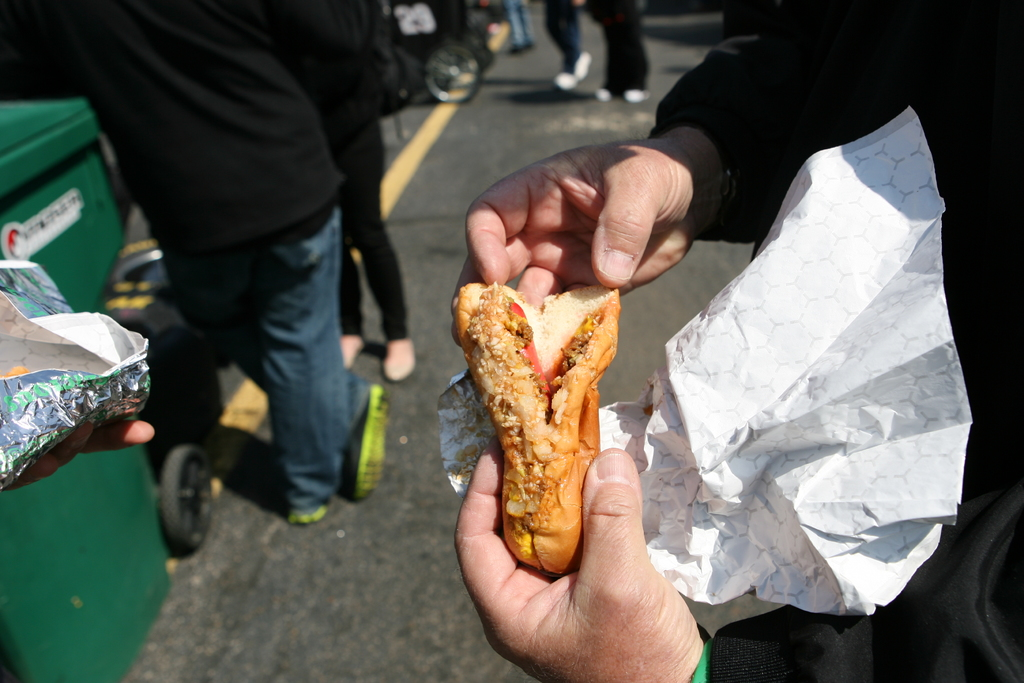hot_dog: (462, 260, 650, 586)
